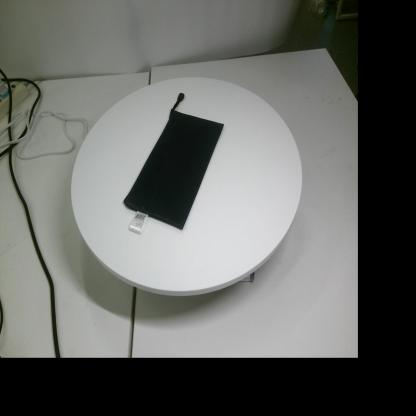Stationery: (124, 93, 224, 234)
